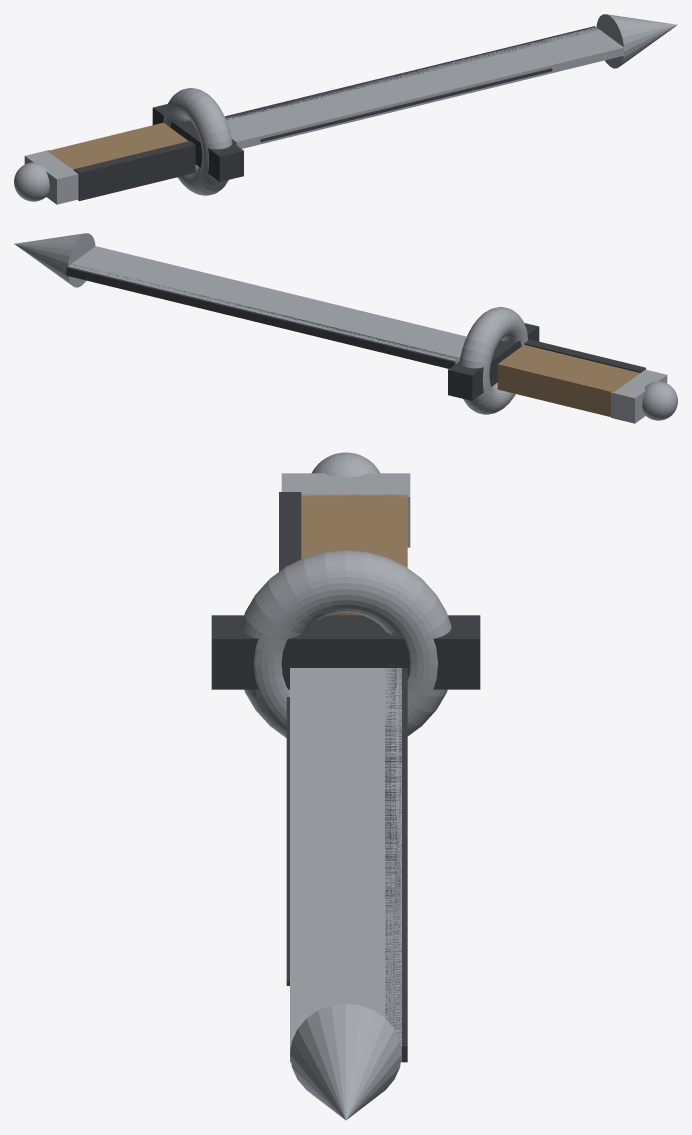
File: bayonet.glb
3 renders of one model, top to bottom at view 1: azimuth 30°, elevation 25°; view 2: azimuth 150°, elevation 25°; view 3: azimuth 270°, elevation 25°, orthographic. The views are drawn at different scales.
Parts seen in each view (by area): view 1: geometry_0; view 2: geometry_0; view 3: geometry_0.
Part boxes in pixels (x1,y1,x2,y2): geometry_0: (14,14,677,204); geometry_0: (14,233,677,423); geometry_0: (211,452,480,1120).
Size of the model in its own units: 13.65 by 1.96 by 2.4.
